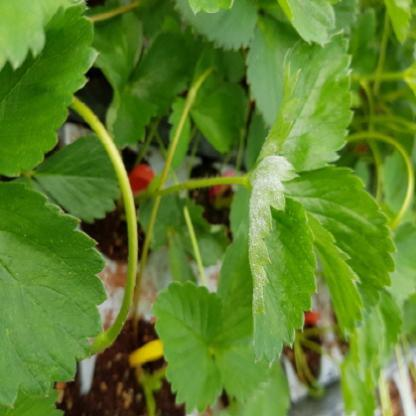Strawberry_Powdery_Mildew_Leaf: (247, 153, 319, 367)
